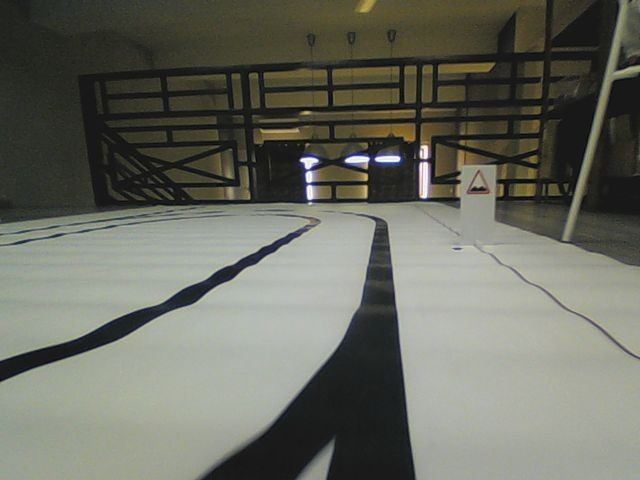Nerov: (466, 168, 491, 195)
